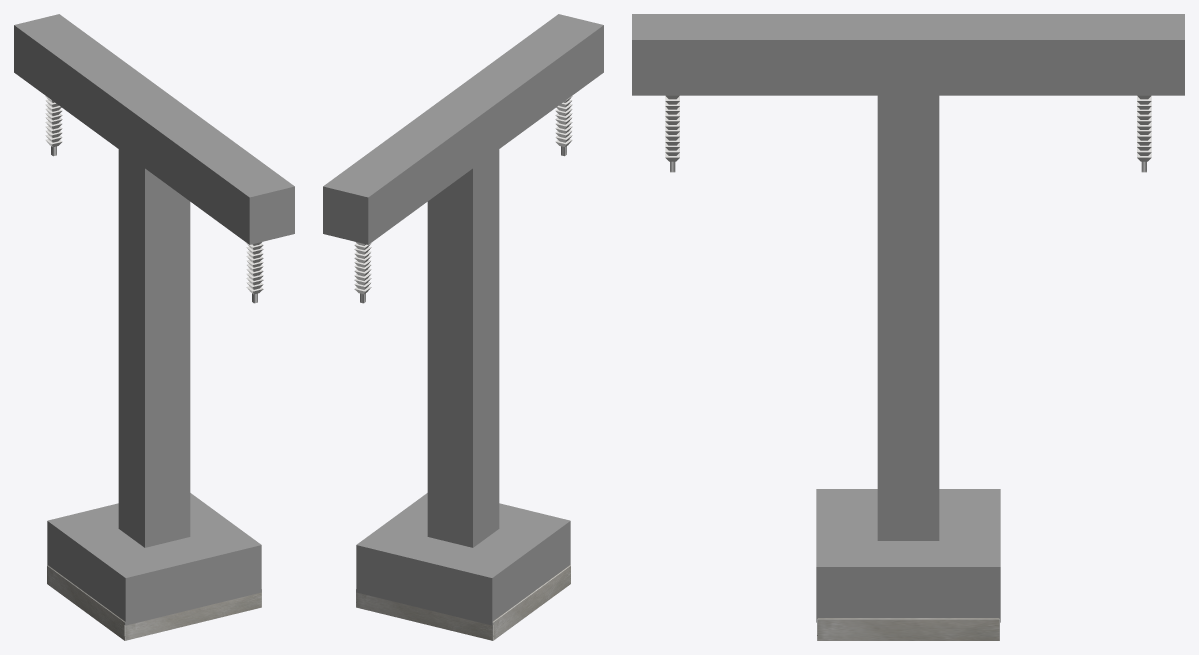
File: CompleteTower.obj
3 views of the same model, side by side, from view 1: azimuth 30°, elevation 25°; view 2: azimuth 150°, elevation 25°; view 3: azimuth 270°, elevation 25° (orthographic). The views are drawn at different scales.
Parts seen in each view (by area): view 1: Minecraft_Block.025_Cube.033, Minecraft_Block.009_Cube.010, Cube_Cube.001, Minecraft_Block.014_Cube.015, Minecraft_Block.001_Cube.002, Minecraft_Block.013_Cube.014, Minecraft_Block.004_Cube.005, Minecraft_Block.015_Cube.016, Minecraft_Block.003_Cube.004, Minecraft_Block.002_Cube.003, Minecraft_Block.010_Cube.011, Minecraft_Block.008_Cube.009 (+14 smaller); view 2: Minecraft_Block.021_Cube.029, Minecraft_Block.012_Cube.013, Cube_Cube.001, Minecraft_Block.014_Cube.015, Minecraft_Block.004_Cube.005, Minecraft_Block.001_Cube.002, Minecraft_Block.013_Cube.014, Minecraft_Block.003_Cube.004, Minecraft_Block.015_Cube.016, Minecraft_Block.002_Cube.003, Minecraft_Block.006_Cube.007, Minecraft_Block.005_Cube.006 (+14 smaller); view 3: Minecraft_Block.017_Cube.018, Minecraft_Block.025_Cube.033, Minecraft_Block.024_Cube.032, Minecraft_Block.023_Cube.031, Minecraft_Block.022_Cube.030, Minecraft_Block.021_Cube.029, Minecraft_Block.020_Cube.028, Minecraft_Block.019_Cube.027, Minecraft_Block.018_Cube.026, Minecraft_Block.007_Cube.008, Minecraft_Block.008_Cube.009, Minecraft_Block.006_Cube.007 (+15 smaller).
Part boxes in pixels (x1,y1,x2,y2): Minecraft_Block.025_Cube.033: [223, 167, 294, 244]; Minecraft_Block.009_Cube.010: [99, 548, 170, 625]; Cube_Cube.001: [47, 565, 261, 640]; Minecraft_Block.014_Cube.015: [118, 244, 190, 310]; Minecraft_Block.001_Cube.002: [118, 481, 190, 547]; Minecraft_Block.013_Cube.014: [118, 292, 190, 357]; Minecraft_Block.004_Cube.005: [118, 339, 190, 405]; Minecraft_Block.015_Cube.016: [118, 197, 190, 262]; Minecraft_Block.003_Cube.004: [118, 387, 190, 452]; Minecraft_Block.002_Cube.003: [118, 434, 190, 500]; Minecraft_Block.010_Cube.011: [145, 537, 216, 614]; Minecraft_Block.008_Cube.009: [191, 526, 261, 603]; Minecraft_Block.021_Cube.029: [323, 167, 394, 244]; Minecraft_Block.012_Cube.013: [447, 548, 518, 625]; Cube_Cube.001: [356, 565, 570, 640]; Minecraft_Block.014_Cube.015: [427, 244, 499, 310]; Minecraft_Block.004_Cube.005: [427, 339, 499, 405]; Minecraft_Block.001_Cube.002: [427, 481, 499, 547]; Minecraft_Block.013_Cube.014: [427, 292, 499, 357]; Minecraft_Block.003_Cube.004: [427, 387, 499, 452]; Minecraft_Block.015_Cube.016: [427, 197, 499, 262]; Minecraft_Block.002_Cube.003: [427, 434, 499, 500]; Minecraft_Block.006_Cube.007: [356, 526, 426, 603]; Minecraft_Block.005_Cube.006: [401, 537, 472, 614]; Minecraft_Block.017_Cube.018: [877, 14, 939, 95]; Minecraft_Block.025_Cube.033: [632, 14, 693, 95]; Minecraft_Block.024_Cube.032: [693, 14, 754, 95]; Minecraft_Block.023_Cube.031: [755, 14, 816, 95]; Minecraft_Block.022_Cube.030: [816, 14, 877, 95]; Minecraft_Block.021_Cube.029: [1123, 14, 1184, 95]; Minecraft_Block.020_Cube.028: [1062, 14, 1123, 95]; Minecraft_Block.019_Cube.027: [1000, 14, 1061, 95]; Minecraft_Block.018_Cube.026: [939, 14, 1000, 95]; Minecraft_Block.007_Cube.008: [877, 541, 939, 618]; Minecraft_Block.008_Cube.009: [816, 541, 877, 622]; Minecraft_Block.006_Cube.007: [939, 541, 1000, 622].
Size of the model in its own units: 3.03 by 10.32 by 9.
5 materials, 4 textured.
